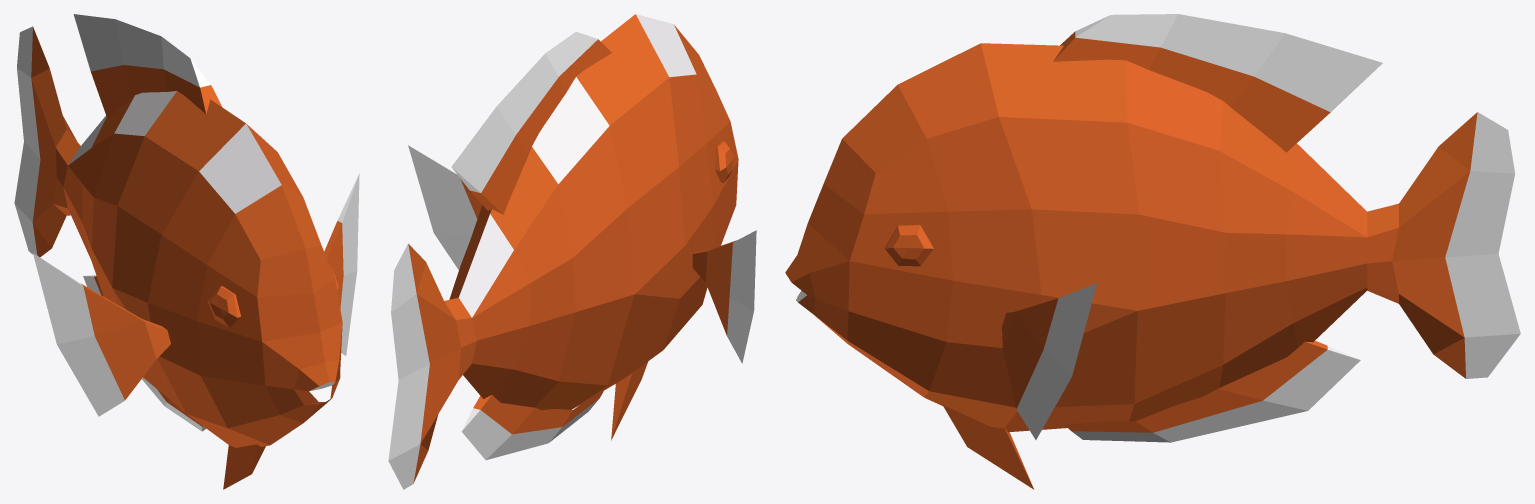
File: fishClown.obj
The picture shows the model from 3 angles, left to right: view 1: azimuth 30°, elevation 25°; view 2: azimuth 150°, elevation 25°; view 3: azimuth 270°, elevation 25°; orthographic projection. The views are drawn at different scales.
Bounding box in the file's own units: 9.84 × 11.75 × 16.46.
Materials: 1 (1 with a texture image).
